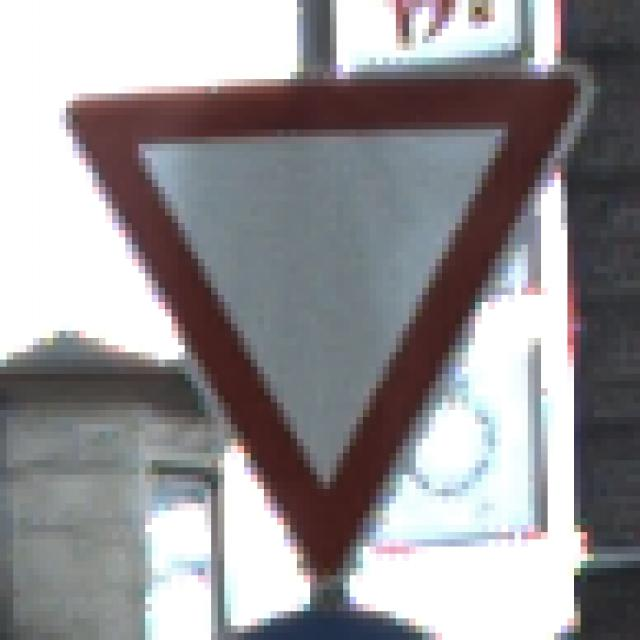Give Way: (61, 59, 589, 591)
